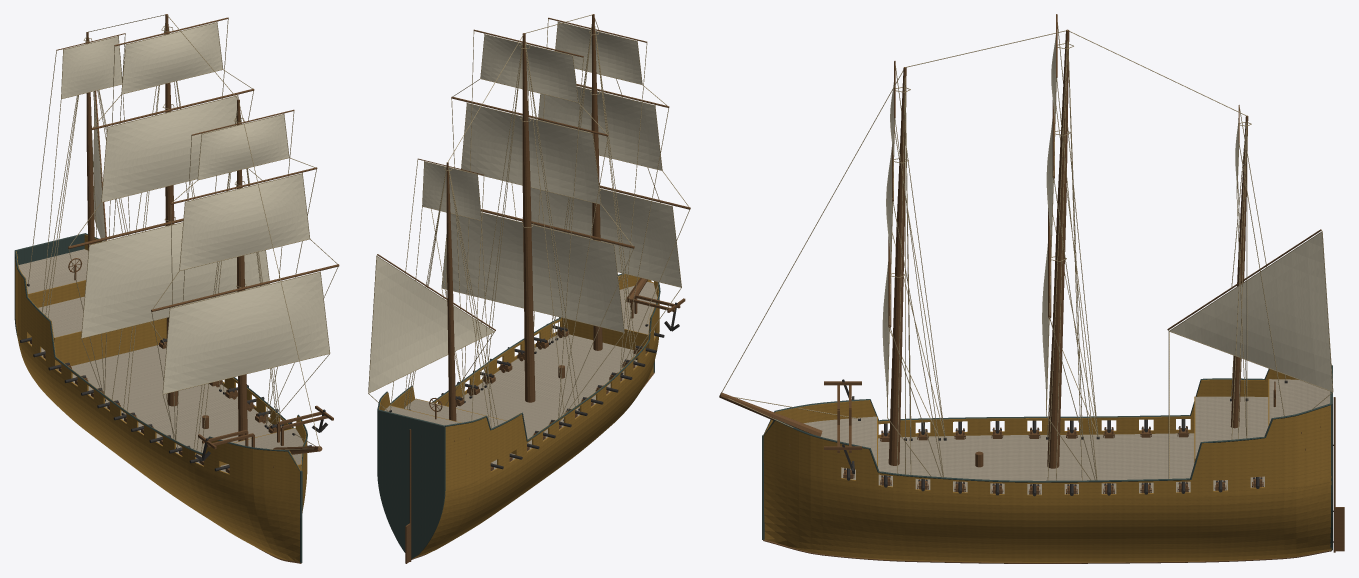
3 renders of one model, left to right at view 1: azimuth 30°, elevation 25°; view 2: azimuth 150°, elevation 25°; view 3: azimuth 270°, elevation 25°, orthographic. The views are drawn at different scales.
Visible parts, largest first — view 1: lod1_hull_shell_starboard, lod1_fore_square_00, lod1_main_square_00, lod1_main_deck, lod1_fore_square_01, lod1_main_square_01, lod1_main_square_02, lod1_fore_square_02, lod1_castle_bulkhead_1_1, lod1_mizzen_square_00, lod1_castle_deck_0, lod1_stern_closure (+12 smaller); view 2: lod1_hull_shell_starboard, lod1_main_square_00, lod1_main_square_01, lod1_main_deck, lod1_mizzen_lateen_01, lod1_stern_closure, lod1_fore_square_00, lod1_fore_square_01, lod1_main_square_02, lod1_fore_square_02, lod1_main, lod1_mizzen_square_00 (+17 smaller); view 3: lod1_hull_shell_port, lod1_main_deck, lod1_mizzen_lateen_01, lod1_hull_shell_starboard, lod1_main, lod1_fore, lod1_castle_deck_1, lod1_castle_deck_0, lod1_gunwale_port, lod1_mizzen, lod1_castle_deck_2, lod1_keel (+2 smaller).
Boxes of the visible parts, <box> form: lod1_hull_shell_starboard: <box>15,251,300,561</box>; lod1_fore_square_00: <box>163,272,329,393</box>; lod1_main_square_00: <box>81,222,269,337</box>; lod1_main_deck: <box>29,342,272,472</box>; lod1_fore_square_01: <box>180,174,309,270</box>; lod1_main_square_01: <box>102,96,240,201</box>; lod1_main_square_02: <box>122,23,222,93</box>; lod1_fore_square_02: <box>198,114,288,179</box>; lod1_castle_bulkhead_1_1: <box>54,318,166,369</box>; lod1_mizzen_square_00: <box>61,37,122,98</box>; lod1_castle_deck_0: <box>18,249,88,293</box>; lod1_stern_closure: <box>14,233,84,337</box>; lod1_hull_shell_starboard: <box>413,281,659,558</box>; lod1_main_square_00: <box>442,213,624,332</box>; lod1_main_square_01: <box>461,103,600,203</box>; lod1_main_deck: <box>456,330,654,469</box>; lod1_mizzen_lateen_01: <box>368,256,493,392</box>; lod1_stern_closure: <box>377,409,445,559</box>; lod1_fore_square_00: <box>530,188,681,286</box>; lod1_fore_square_01: <box>538,87,661,170</box>; lod1_main_square_02: <box>481,35,577,102</box>; lod1_fore_square_02: <box>555,22,641,84</box>; lod1_main: <box>522,33,535,402</box>; lod1_mizzen_square_00: <box>422,162,480,220</box>; lod1_hull_shell_port: <box>763,405,1331,562</box>; lod1_main_deck: <box>841,433,1264,494</box>; lod1_mizzen_lateen_01: <box>1170,232,1332,391</box>; lod1_hull_shell_starboard: <box>763,369,1298,438</box>; lod1_main: <box>1047,29,1069,468</box>; lod1_fore: <box>888,67,906,465</box>; lod1_castle_deck_1: <box>1195,396,1268,458</box>; lod1_castle_deck_0: <box>1269,379,1330,423</box>; lod1_gunwale_port: <box>763,403,1331,482</box>; lod1_mizzen: <box>1230,115,1248,428</box>; lod1_castle_deck_2: <box>803,416,876,464</box>; lod1_keel: <box>763,539,1331,563</box>.
Size of the model in its own units: 19.09 by 40.42 by 42.94.
Materials: 7 (7 with a texture image).
